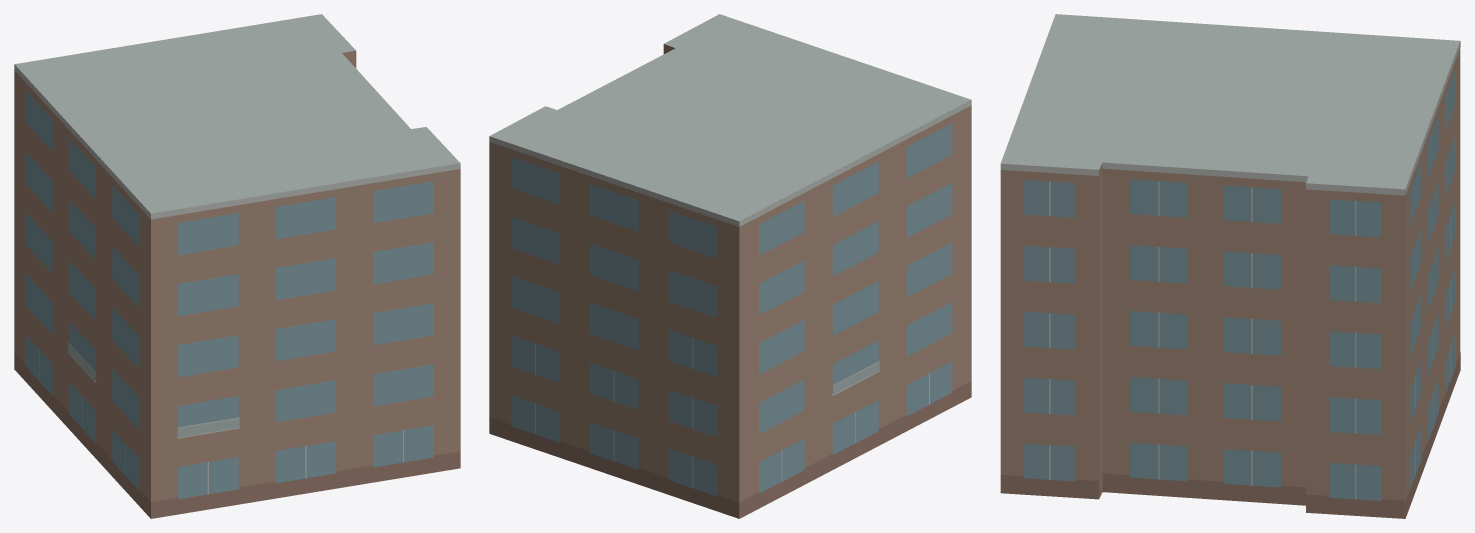
File: survey-upis-32664830.glb
The picture shows the model from 3 angles, left to right: view 1: azimuth 30°, elevation 25°; view 2: azimuth 150°, elevation 25°; view 3: azimuth 270°, elevation 25°; orthographic projection. The views are drawn at different scales.
Visible parts, largest first — view 1: survey-upis-32664830.tmp; view 2: survey-upis-32664830.tmp; view 3: survey-upis-32664830.tmp.
Boxes of the visible parts, x1,y1,x2,y2 form: survey-upis-32664830.tmp: (14, 14, 460, 518); survey-upis-32664830.tmp: (489, 14, 971, 518); survey-upis-32664830.tmp: (1000, 14, 1460, 518).
Bounding box in the file's own units: 14.9 × 13.04 × 16.51.
